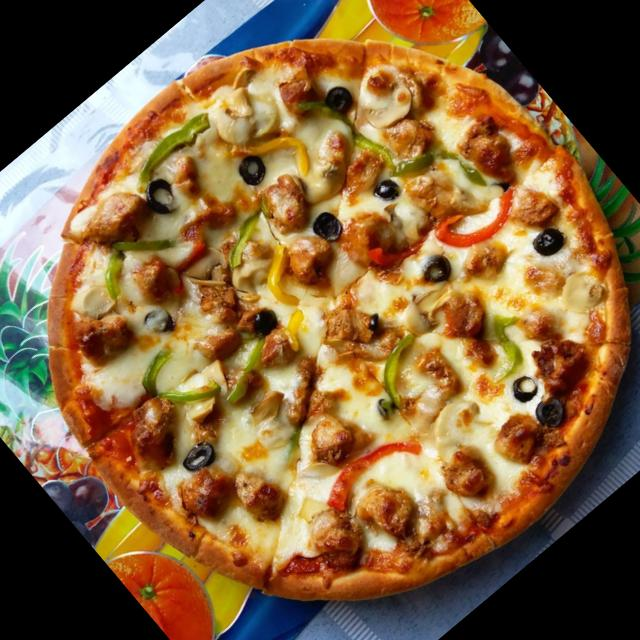black_olives: (176, 432, 228, 481), (498, 362, 548, 412), (524, 217, 574, 266), (137, 171, 185, 219), (529, 387, 577, 435), (225, 146, 272, 194), (410, 246, 456, 292), (138, 298, 183, 342), (244, 301, 288, 345), (308, 206, 350, 250), (320, 78, 360, 120), (368, 170, 408, 211)
peppers: (312, 418, 426, 524), (128, 329, 229, 431), (226, 103, 323, 201), (428, 172, 526, 264), (124, 108, 212, 187), (358, 330, 442, 412), (467, 306, 542, 381), (355, 110, 429, 186), (303, 90, 372, 164), (213, 341, 280, 404), (108, 213, 172, 278), (245, 248, 308, 312), (212, 209, 275, 269), (82, 250, 136, 302), (272, 304, 318, 347)
pizza: (46, 37, 635, 604)
